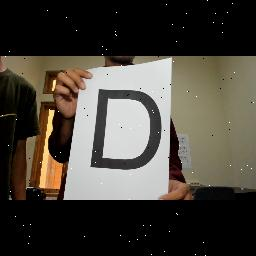d: (90, 82, 164, 178)
